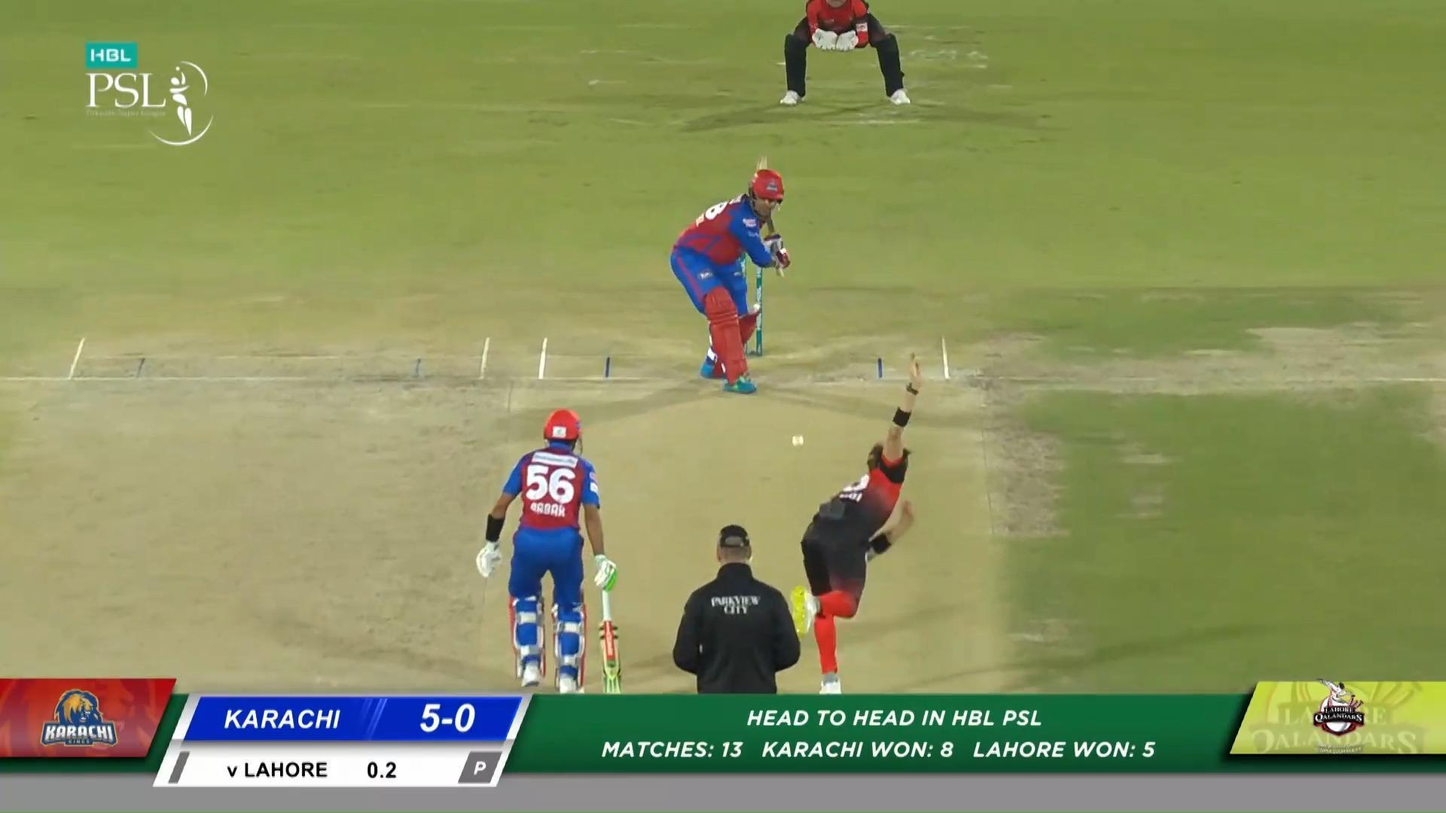BM 1: (670, 154, 790, 393)
BO: (791, 354, 924, 692)
